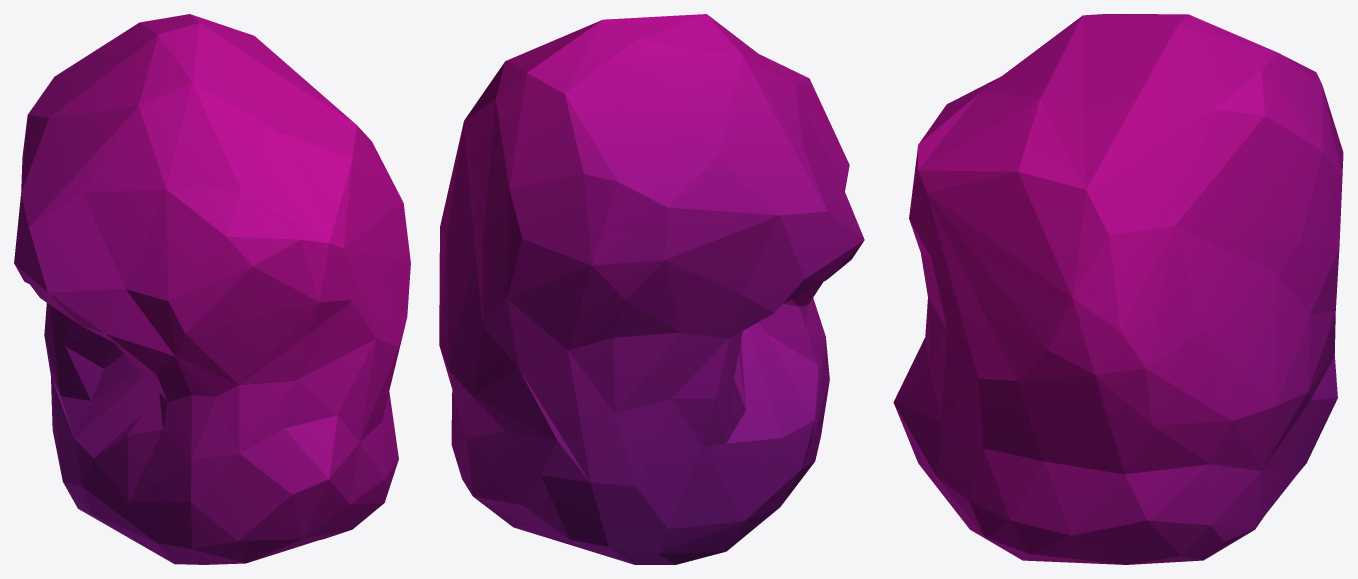
File: Obsidian.fbx
3 renders of one model, left to right at view 1: azimuth 30°, elevation 25°; view 2: azimuth 150°, elevation 25°; view 3: azimuth 270°, elevation 25°, orthographic. The views are drawn at different scales.
Parts seen in each view (by area): view 1: OBSIDIAN.001; view 2: OBSIDIAN.001; view 3: OBSIDIAN.001.
Part boxes in pixels (left/top/right/bottom): OBSIDIAN.001: left=14, top=14, right=410, bottom=564; OBSIDIAN.001: left=439, top=14, right=864, bottom=564; OBSIDIAN.001: left=893, top=14, right=1343, bottom=564.
Size of the model in its own units: 156 by 192 by 157.
1 material, 1 textured.
